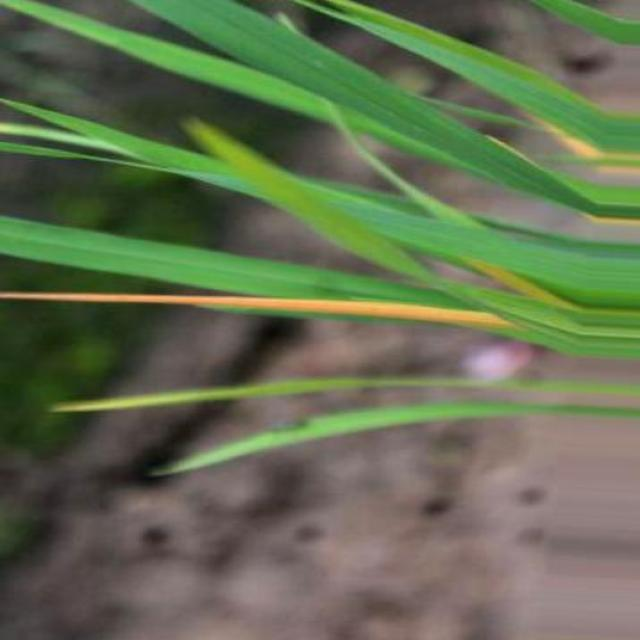Rice Tungro: (0, 293, 513, 328)
